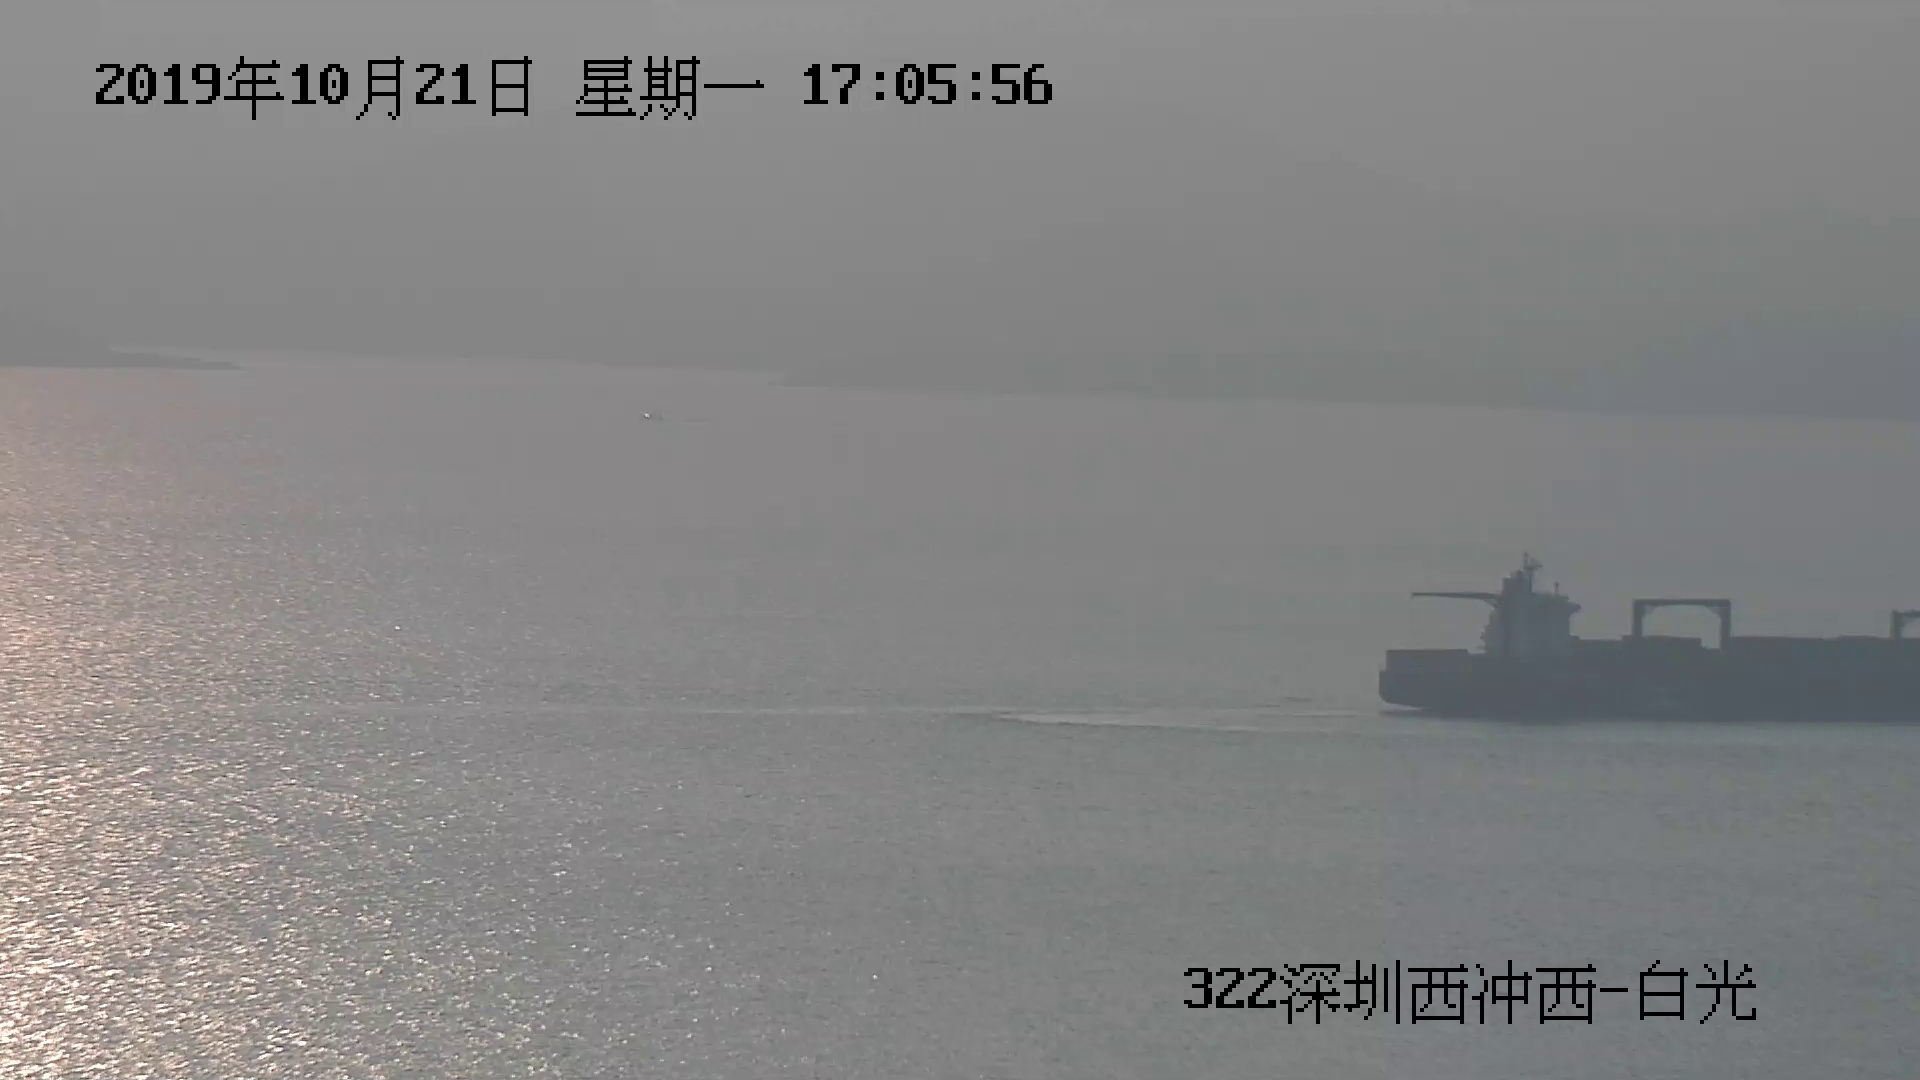ship: (1369, 563, 1920, 719)
